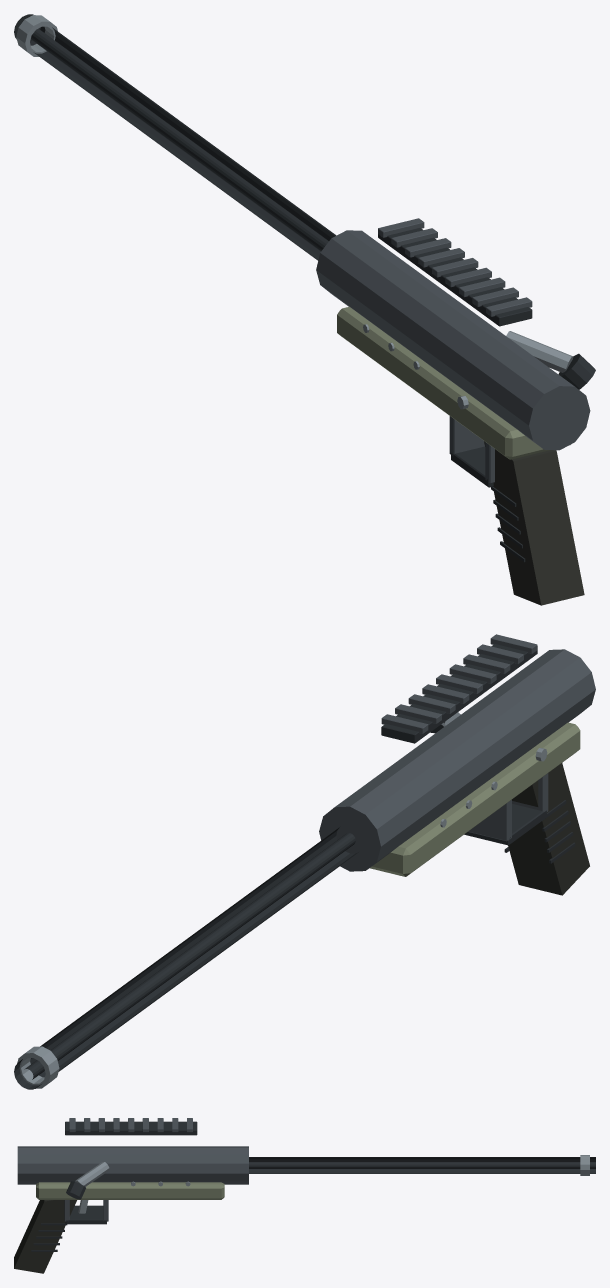
The model's file is weapon_heron308.glb.
The picture shows the model from 3 angles, top to bottom: view 1: azimuth 30°, elevation 25°; view 2: azimuth 150°, elevation 25°; view 3: azimuth 270°, elevation 25°; orthographic projection. The views are drawn at different scales.
Visible parts, largest first — view 1: Geometry_weapon_heron308; view 2: Geometry_weapon_heron308; view 3: Geometry_weapon_heron308.
Boxes of the visible parts, x1=… form: Geometry_weapon_heron308: x1=14, y1=14, x2=595, y2=605; Geometry_weapon_heron308: x1=14, y1=634, x2=595, y2=1089; Geometry_weapon_heron308: x1=14, y1=1118, x2=595, y2=1273.
Bounding box in the file's own units: 0.1308 × 0.262 × 0.956.
